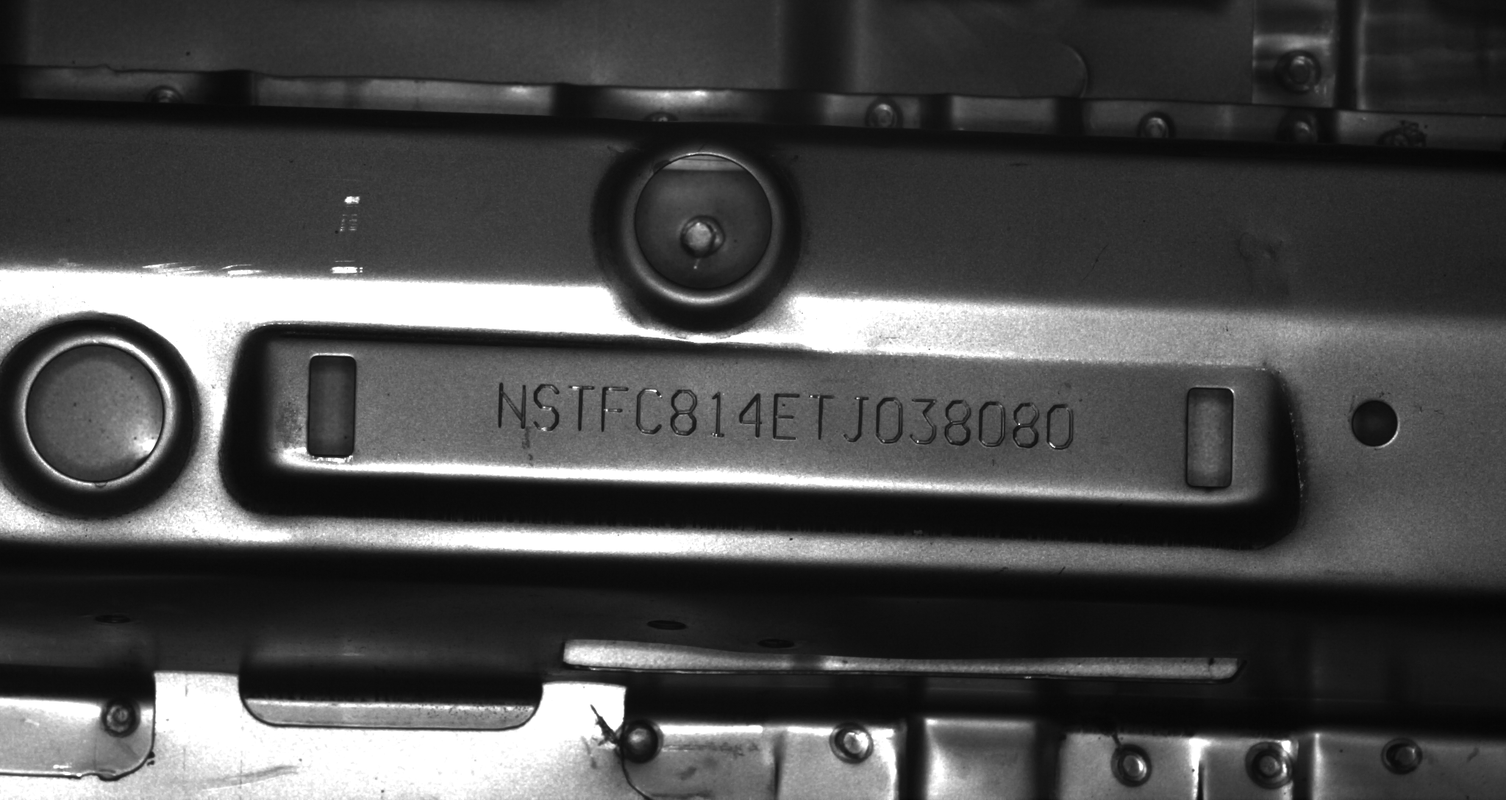qy_vin_plate: (266, 342, 1267, 506)
